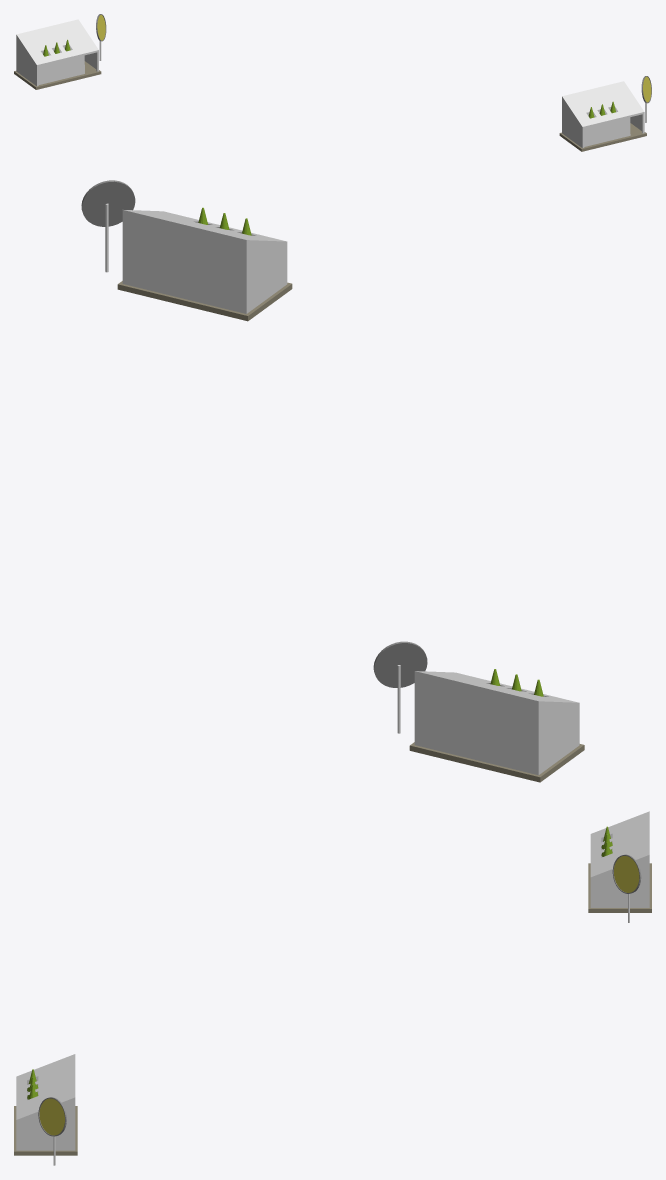
The model's file is iksun.gltf.
3 renders of one model, top to bottom at view 1: azimuth 30°, elevation 25°; view 2: azimuth 150°, elevation 25°; view 3: azimuth 270°, elevation 25°, orthographic. The views are drawn at different scales.
Visible parts, largest first — view 1: Cube.001, Cube, Cube.003, Cube.002, Cylinder, Cylinder.003; view 2: Cube, Cube.001, Cylinder, Cylinder.003, Cube.002, Cube.003; view 3: Cube.001, Cube, Cylinder.003, Cylinder, Cube.003, Cube.002.
Part boxes in pixels (x1,y1,x2,y2): Cube.001: (562,81,644,148); Cube: (16,19,98,86); Cube.003: (559,123,646,151); Cube.002: (14,61,101,89); Cylinder: (96,14,106,41); Cylinder.003: (641,76,651,103); Cube: (414,671,579,775); Cube.001: (122,210,287,313); Cylinder: (373,641,427,687); Cylinder.003: (81,180,135,226); Cube.002: (409,742,584,782); Cube.003: (117,281,292,321); Cube.001: (16,1054,75,1150); Cube: (590,811,649,907); Cylinder.003: (38,1097,66,1136); Cylinder: (612,854,641,893); Cube.003: (14,1106,77,1155); Cube.002: (588,863,651,912).
Size of the model in its own units: 48.9 by 4.95 by 43.36.
